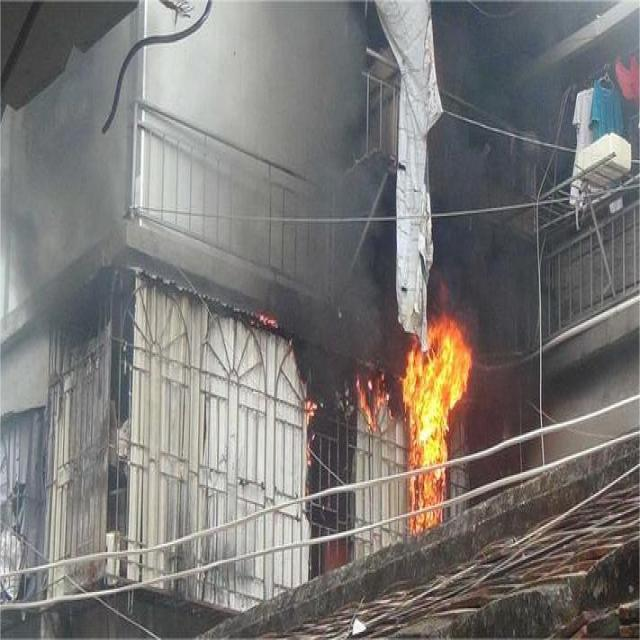Fire: (400, 312, 474, 534)
